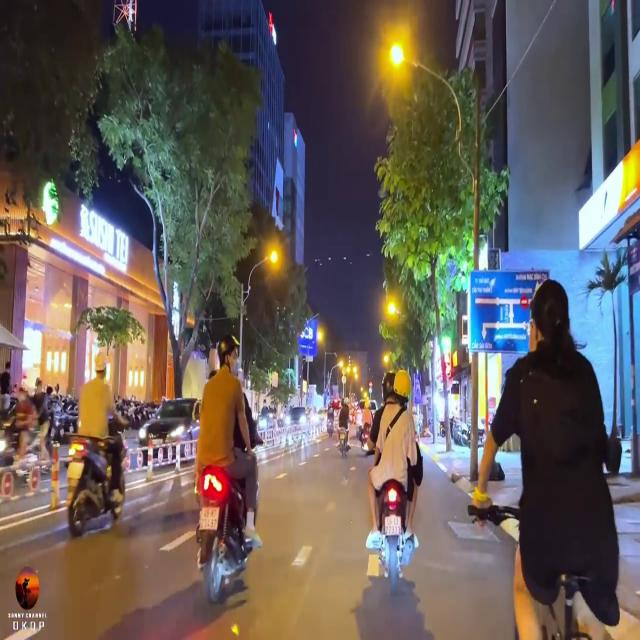bien_trang: (196, 502, 222, 530), (382, 513, 404, 538)
